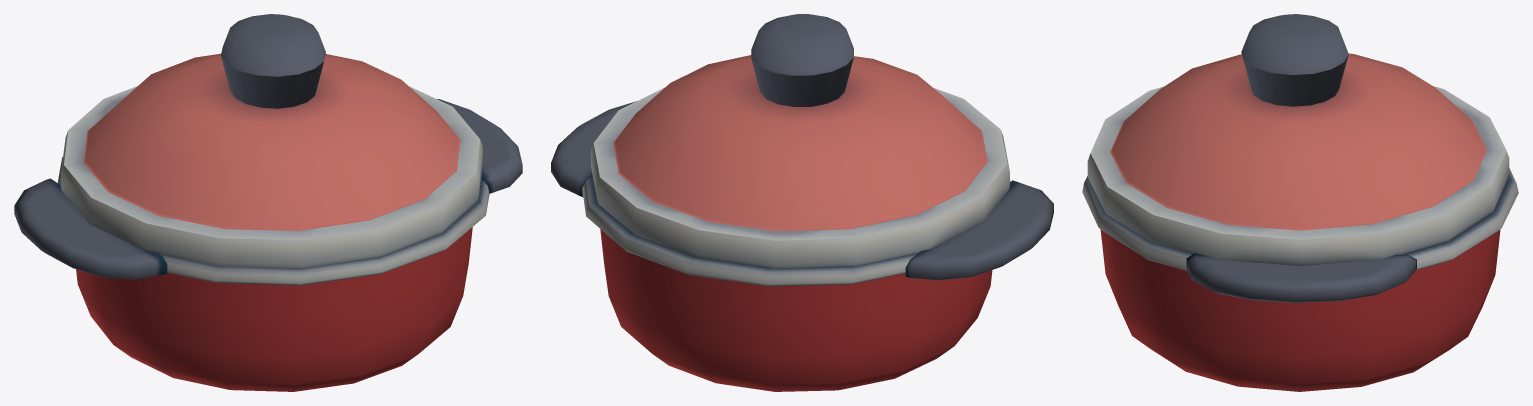
The model's file is pot.fbx.
3 views of the same model, side by side, from view 1: azimuth 30°, elevation 25°; view 2: azimuth 150°, elevation 25°; view 3: azimuth 270°, elevation 25° (orthographic).
Parts seen in each view (by area): view 1: pot; view 2: pot; view 3: pot.
Boxes of the visible parts, <box> form: pot: <box>14,14,522,391</box>; pot: <box>551,14,1053,391</box>; pot: <box>1082,14,1518,391</box>.
Bounding box in the file's own units: 85.98 × 54.49 × 71.47.
